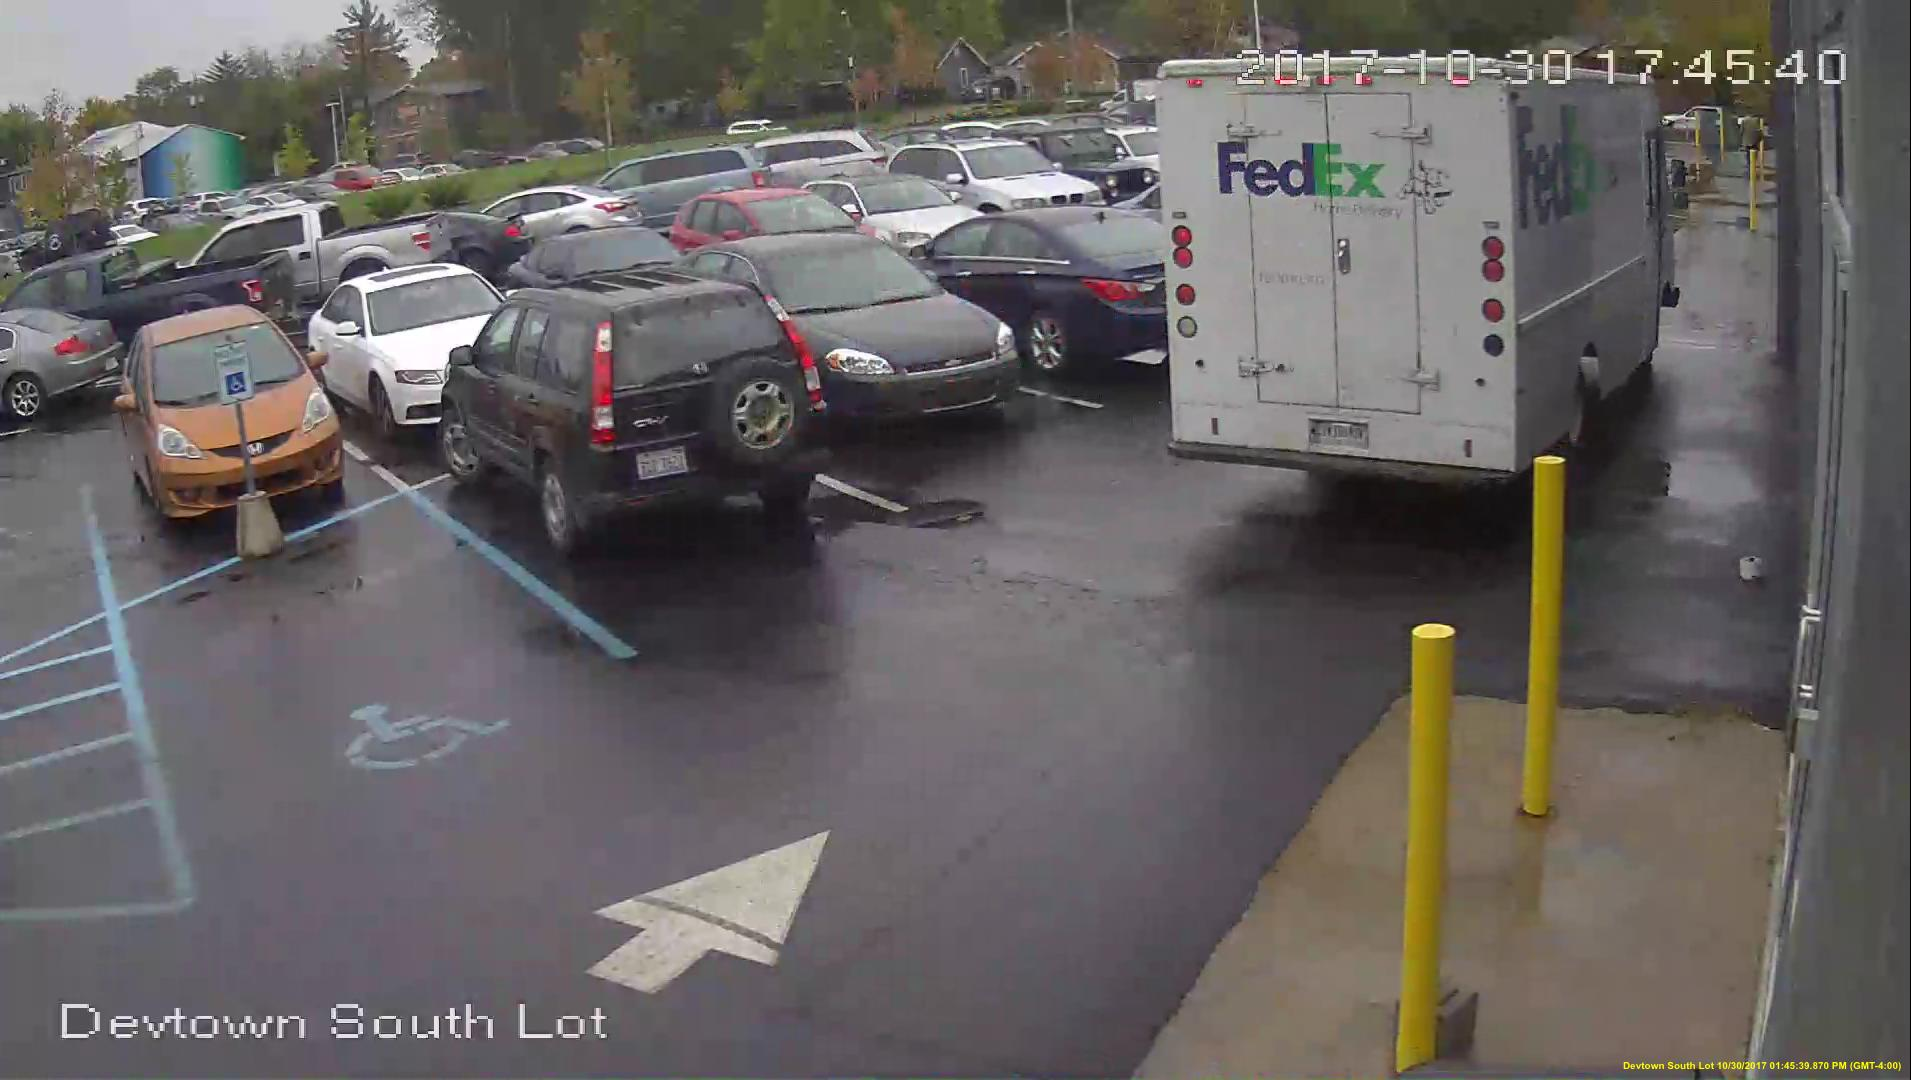fedex_truck: (1171, 62, 1669, 486)
